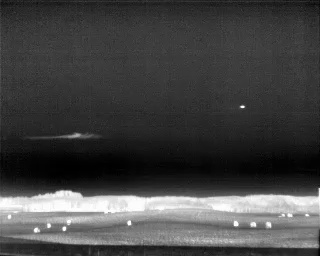BIRD: (237, 102, 247, 112)
